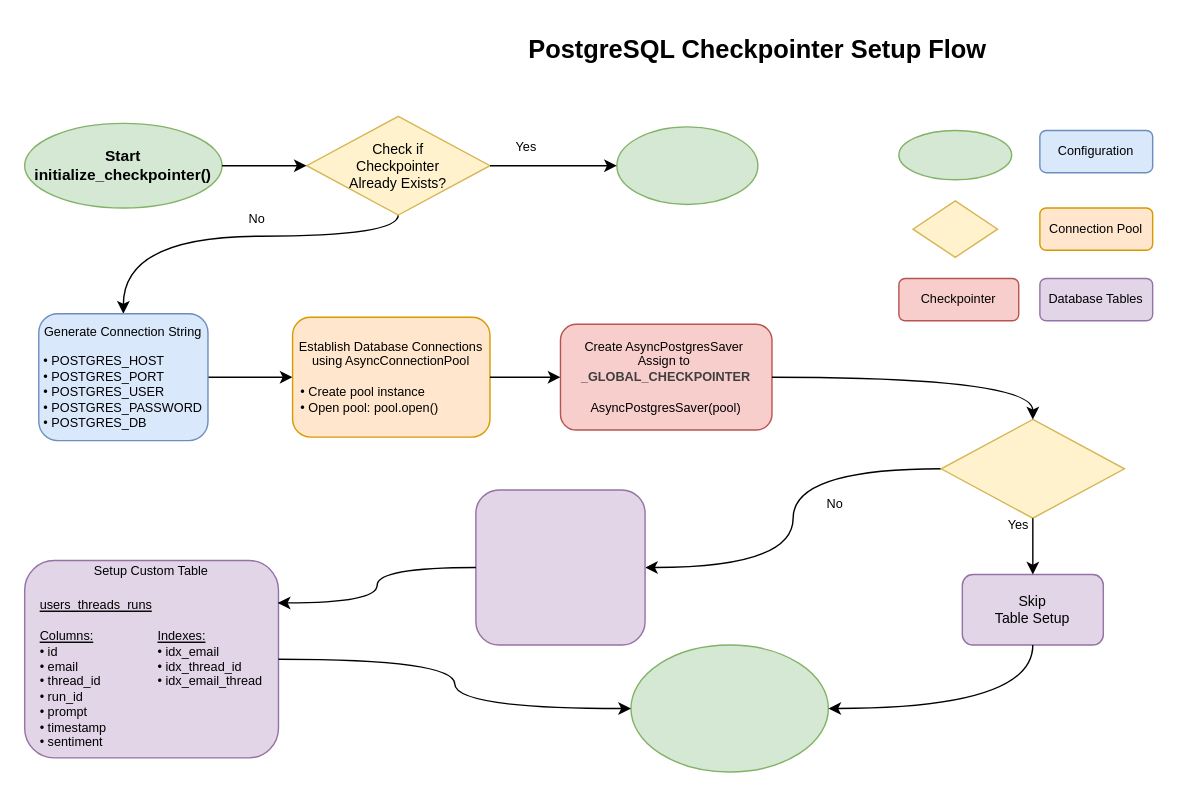
Image size: 1177x797. Some labels were removed from this diagram. The shapes that lost their labels are listed below. From the top down, each one's centre as x and y in pixels, then its label:
At point 686,164: "Already Initialized ✓ Done".
At point 954,154: "Start/End".
At point 955,228: "Decision".
At point 1032,468: "Does 'checkpoints' table exist?".
At point 559,567: "Setup LangGraph Tables AsyncPostgresSaver.setup() Tables: • checkpoints etc.".
At point 729,708: "Setup Complete ✓ Checkpointer Ready".
